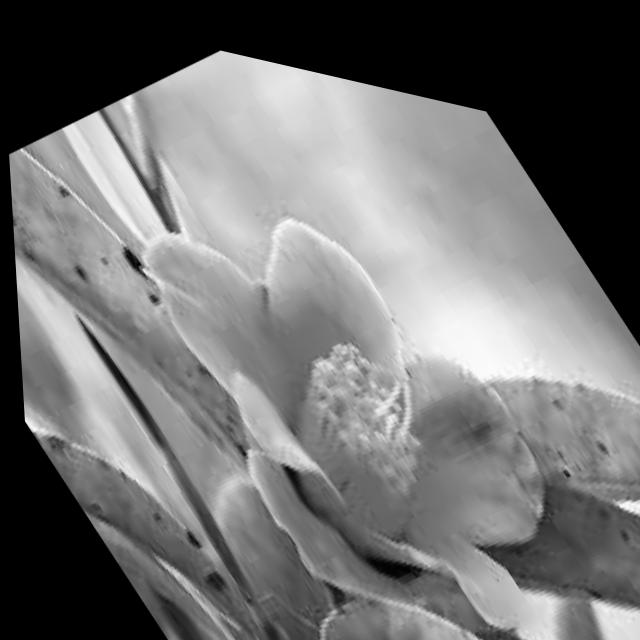Flower: (92, 91, 616, 640)
